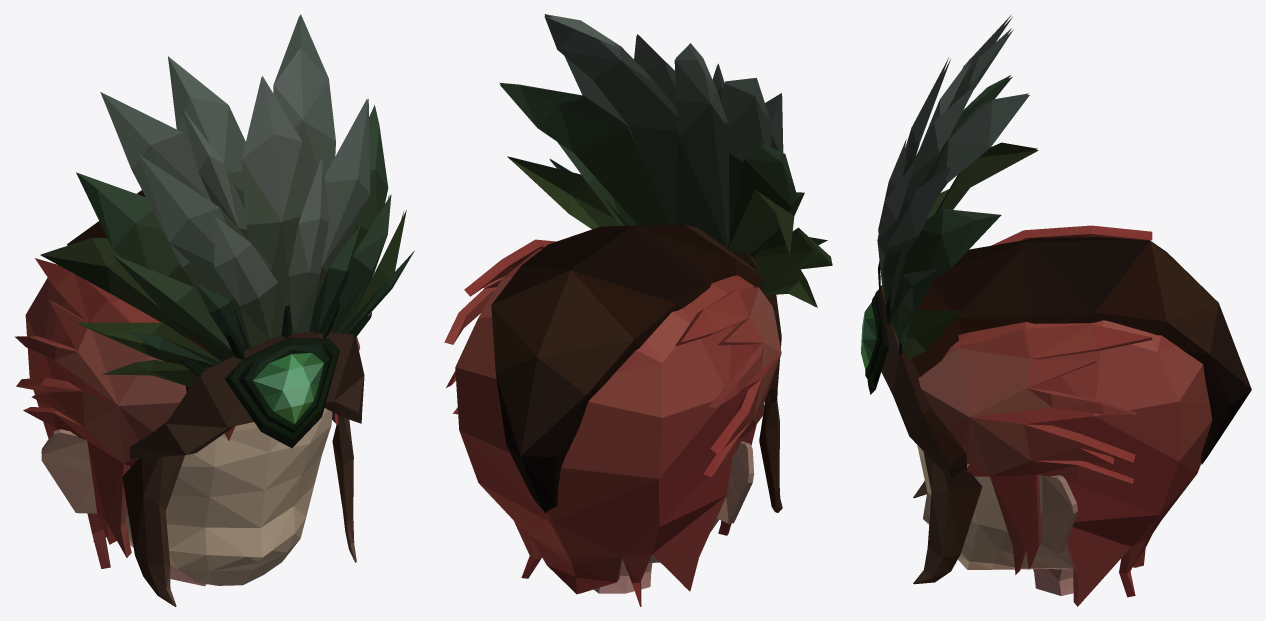
Rendered from helm_lightskin_spike_red_headress.fbx.
3 views of the same model, side by side, from view 1: azimuth 30°, elevation 25°; view 2: azimuth 150°, elevation 25°; view 3: azimuth 270°, elevation 25° (orthographic). The views are drawn at different scales.
Visible parts, largest first — view 1: helm_lightskin_spike_red_headress; view 2: helm_lightskin_spike_red_headress; view 3: helm_lightskin_spike_red_headress.
Boxes of the visible parts, x1,y1,x2,y2 form: helm_lightskin_spike_red_headress: (15,14,414,606); helm_lightskin_spike_red_headress: (444,14,832,606); helm_lightskin_spike_red_headress: (861,15,1251,606).
Bounding box in the file's own units: 1.29 × 2.05 × 1.35.
